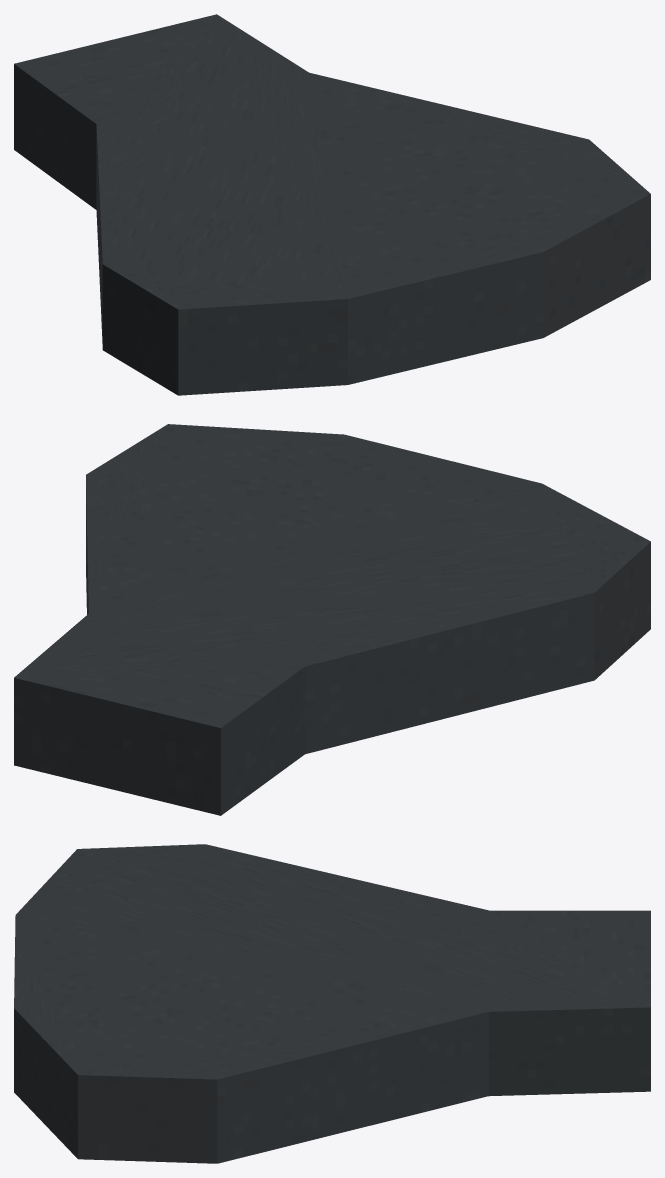
The model's file is saddle.glb.
The picture shows the model from 3 angles, top to bottom: view 1: azimuth 30°, elevation 25°; view 2: azimuth 150°, elevation 25°; view 3: azimuth 270°, elevation 25°; orthographic projection. The views are drawn at different scales.
Parts seen in each view (by area): view 1: block_padded saddle; view 2: block_padded saddle; view 3: block_padded saddle.
Part boxes in pixels (x1,y1,x2,y2): block_padded saddle: [14, 14, 650, 395]; block_padded saddle: [14, 424, 650, 815]; block_padded saddle: [14, 844, 650, 1163].
Bounding box in the file's own units: 0.1799 × 0.0492 × 0.2057.
1 material, 1 textured.
